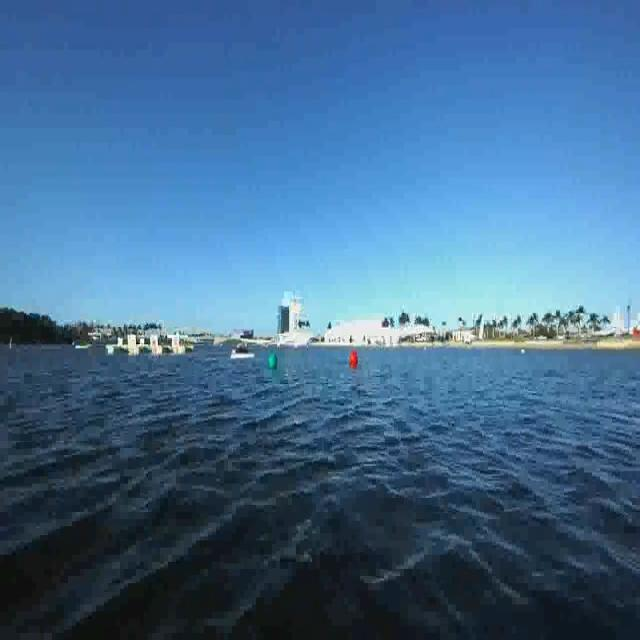green-buoy: (268, 350, 279, 371)
red-buoy: (349, 348, 359, 370)
